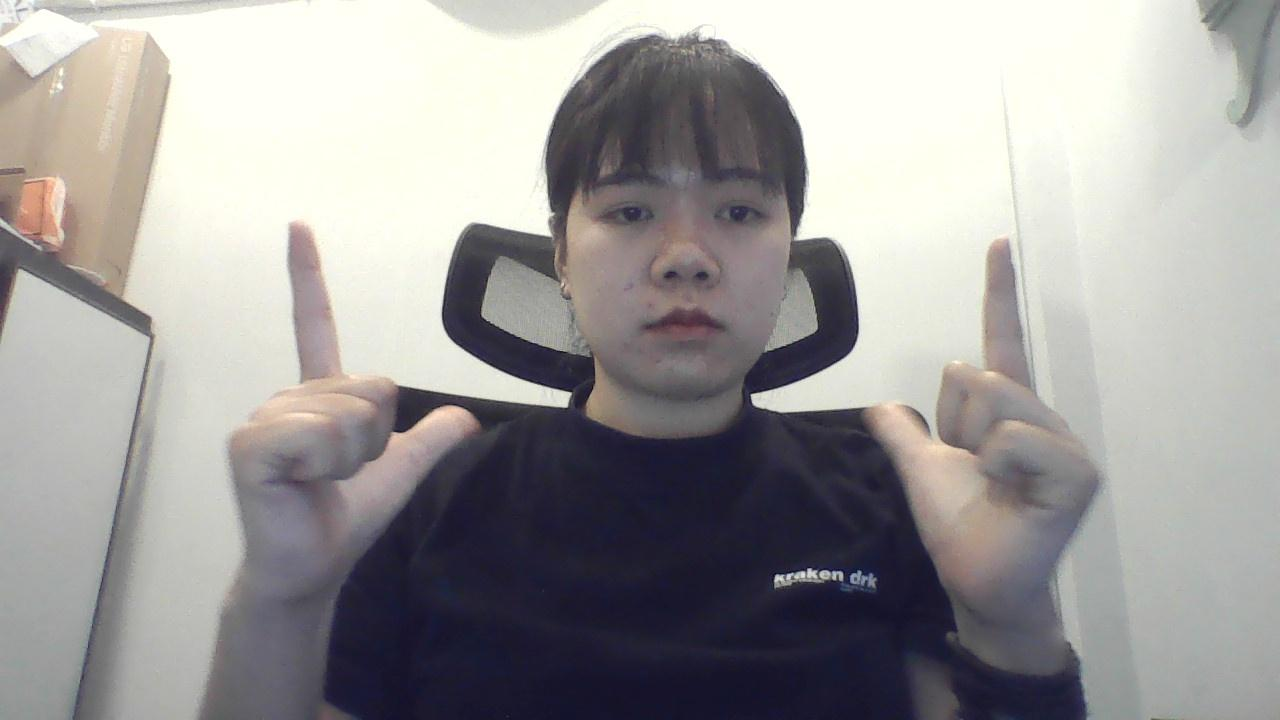L: (226, 197, 497, 614), (852, 225, 1115, 620)
